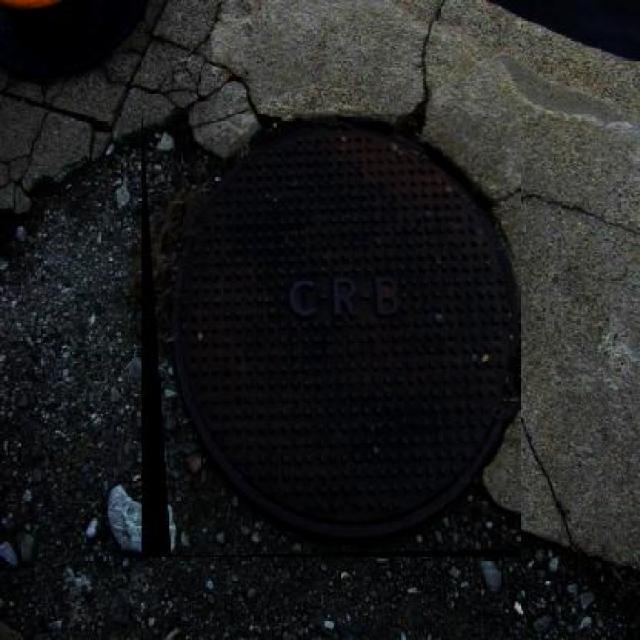Manhole: (142, 114, 521, 557)
